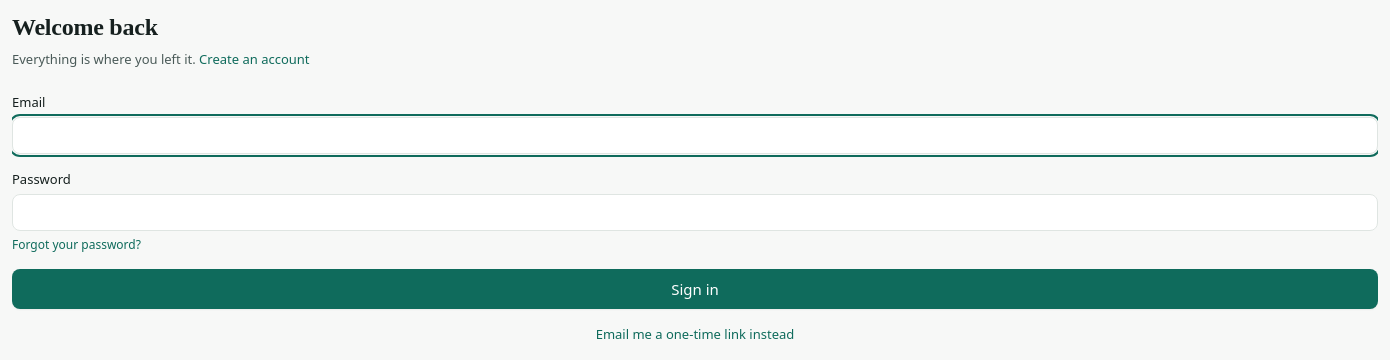
it: P0-06 Test A · the request is actually sent › refuses an address the browser accepts but we don't, and says so
Click the button "Email me a one-time link instead": [695, 334] box [596,325,794,343]
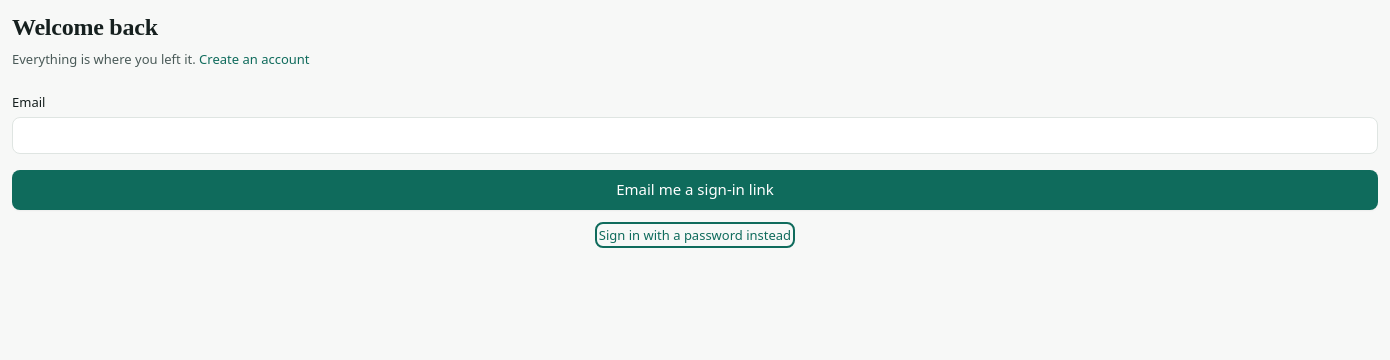
In the field labelled "Email": [695, 135] box [12,117,1378,154], type "a@b"
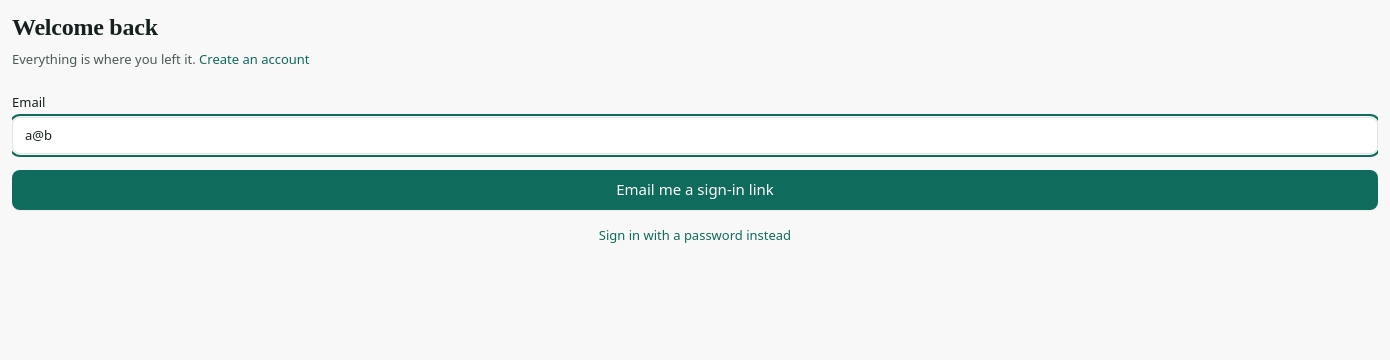
Click the button "Email me a sign-in link": [695, 190] box [12,170,1378,210]
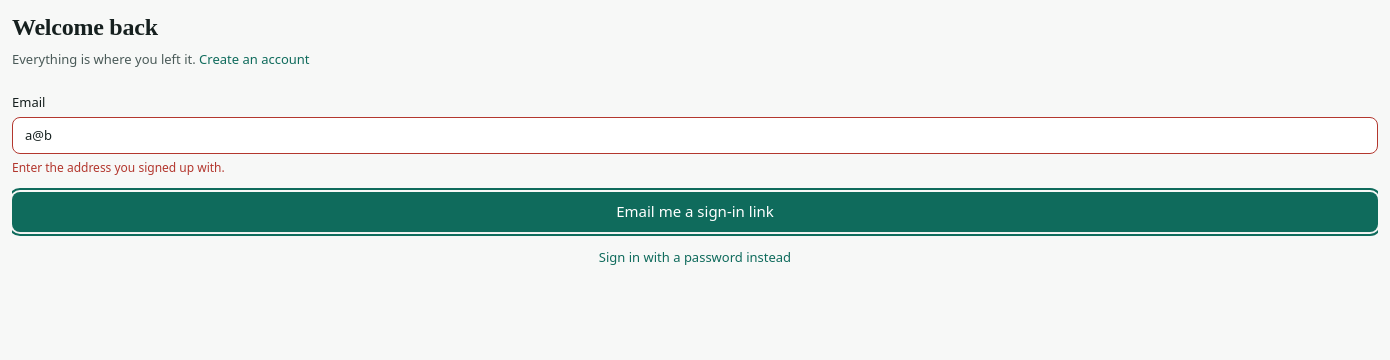
Check: the text "Enter the address you signed up with." is shown, box [12,159,225,176]
